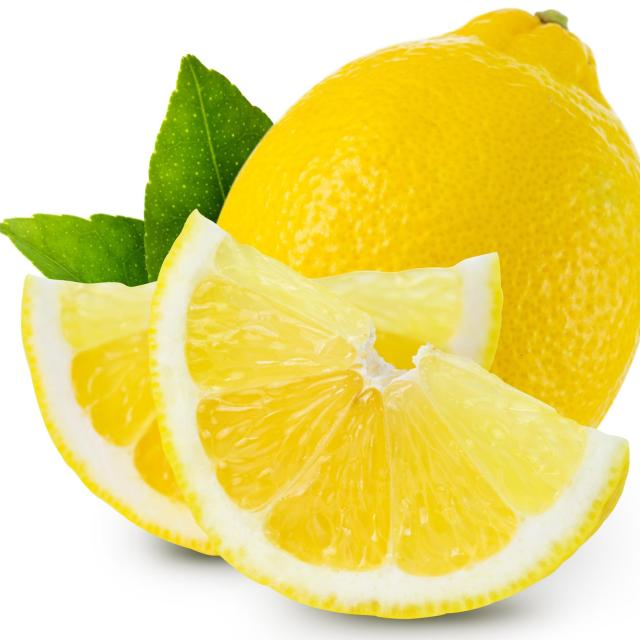lemon: (12, 205, 632, 627)
